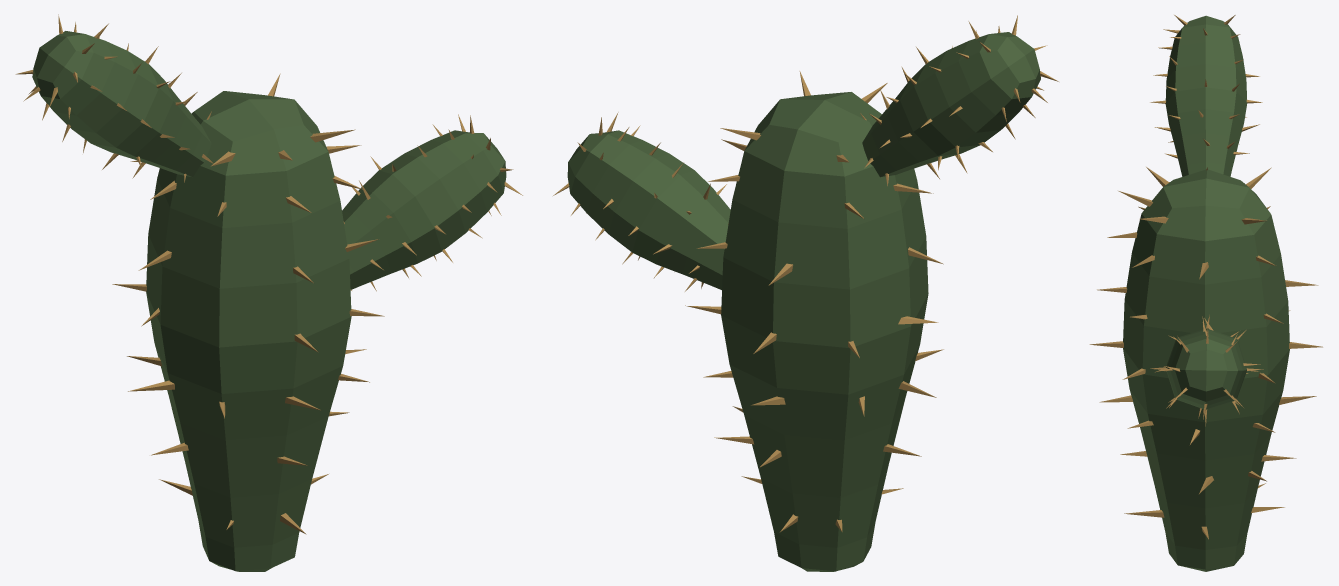
The model's file is Cactus_Harvested.gltf.
3 views of the same model, side by side, from view 1: azimuth 30°, elevation 25°; view 2: azimuth 150°, elevation 25°; view 3: azimuth 270°, elevation 25° (orthographic). The views are drawn at different scales.
Visible parts, largest first — view 1: Cactus_Harvested; view 2: Cactus_Harvested; view 3: Cactus_Harvested.
Boxes of the visible parts, bbox=[...] form: Cactus_Harvested: bbox=[15, 14, 522, 571]; Cactus_Harvested: bbox=[553, 15, 1058, 571]; Cactus_Harvested: bbox=[1089, 15, 1322, 571].
Bounding box in the file's own units: 1.09 × 1.26 × 0.5629.
